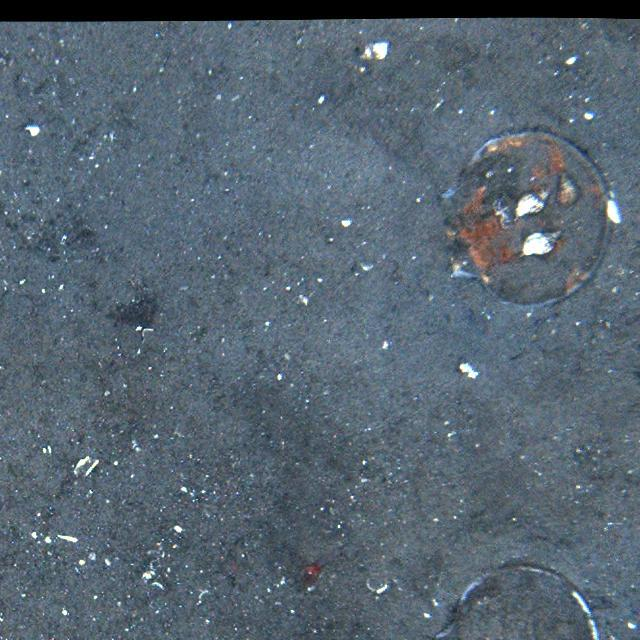whelk: (523, 227, 565, 258), (554, 169, 582, 209)
